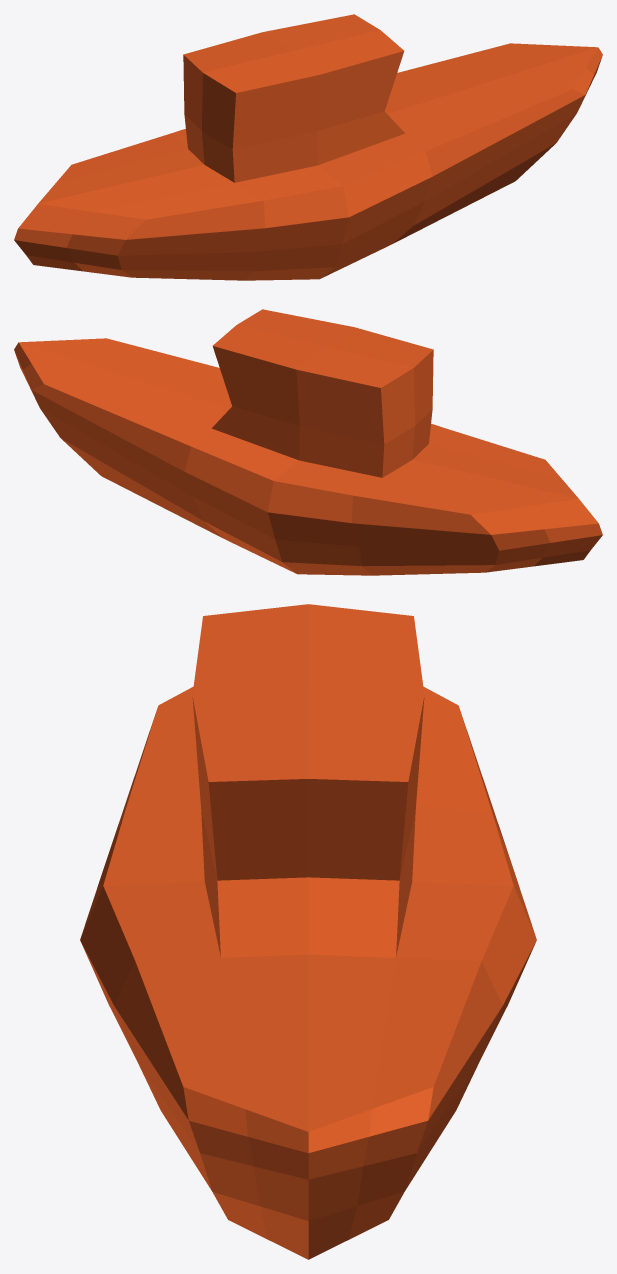
Rendered from Body.glb.
The picture shows the model from 3 angles, top to bottom: view 1: azimuth 30°, elevation 25°; view 2: azimuth 150°, elevation 25°; view 3: azimuth 270°, elevation 25°; orthographic projection. The views are drawn at different scales.
Parts seen in each view (by area): view 1: Cube; view 2: Cube; view 3: Cube.
Boxes of the visible parts, x1,y1,x2,y2 form: Cube: (14, 14, 602, 280); Cube: (14, 309, 602, 575); Cube: (80, 604, 536, 1259).
Bounding box in the file's own units: 44.44 × 16.27 × 14.93.
